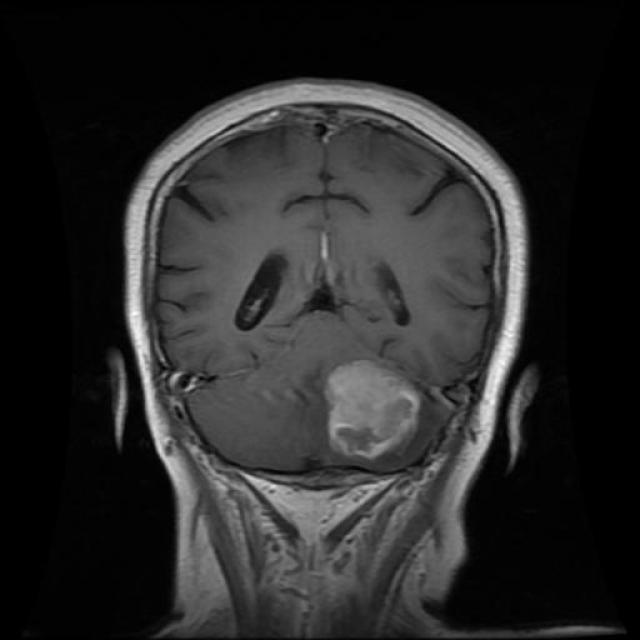meningioma: (326, 361, 420, 460)
